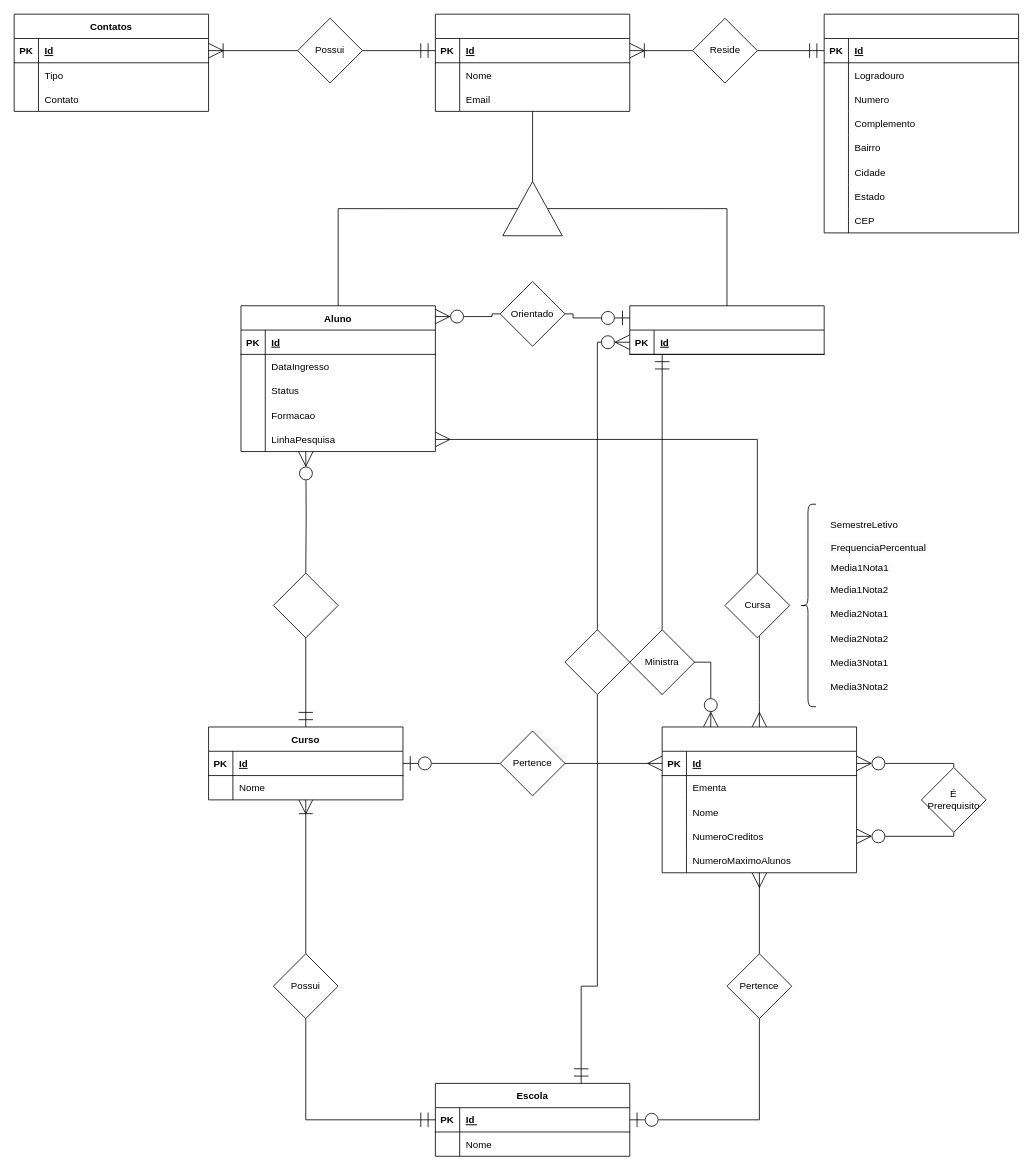
This 1033x1170 diagram has some shape labels left out. Here are the shapes that lost their labels. From the top down, the box of each, then its label:
(435, 13, 630, 111): Pessoa
(823, 13, 1019, 233): Endereco
(629, 305, 824, 354): Professor
(273, 572, 338, 638): Matriculado
(564, 629, 630, 695): Está
(661, 726, 857, 873): Disciplina
